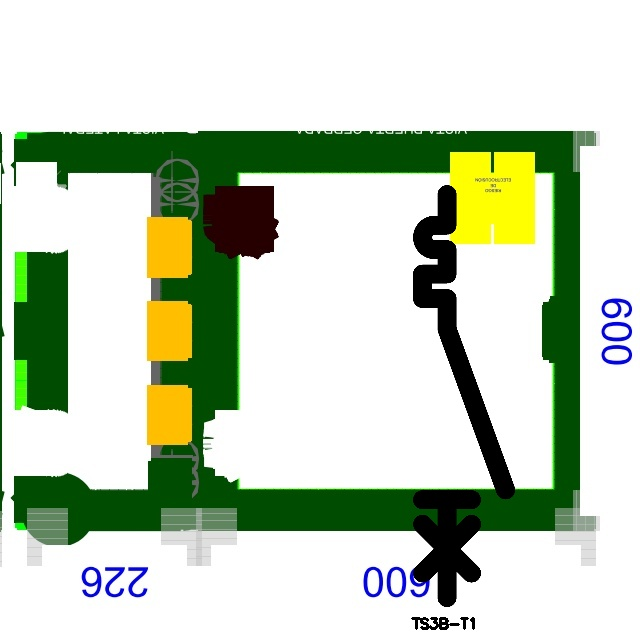interruptor_termomagnetico: (412, 184, 516, 608)
